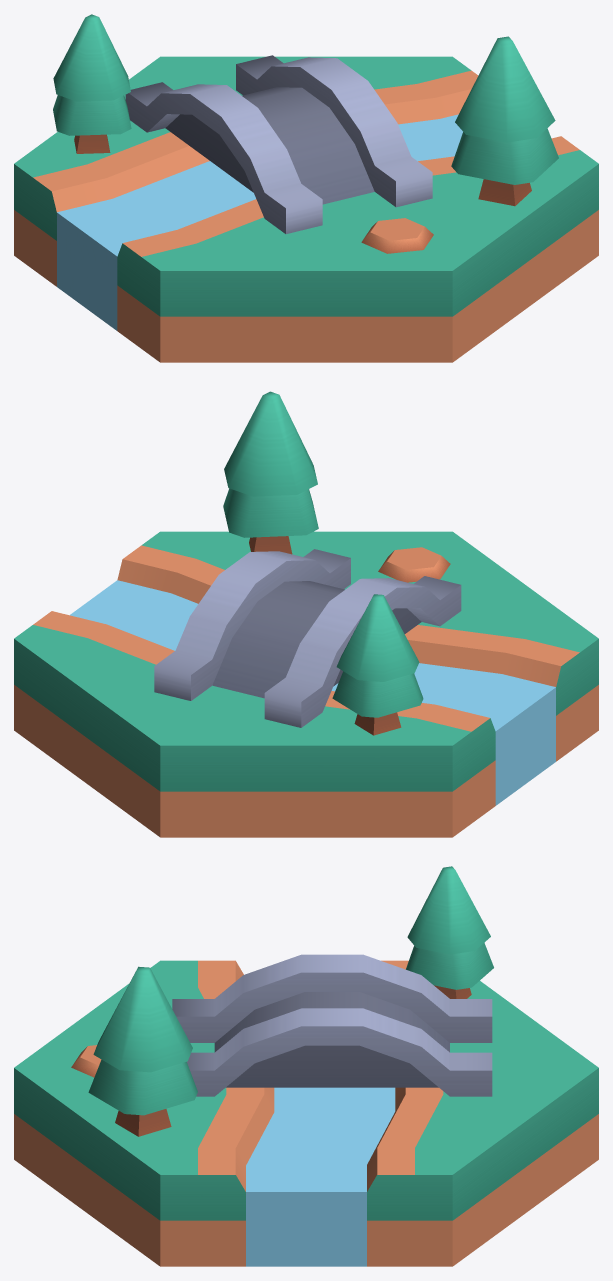
Rendered from bridge.fbx.
3 renders of one model, top to bottom at view 1: azimuth 30°, elevation 25°; view 2: azimuth 150°, elevation 25°; view 3: azimuth 270°, elevation 25°, orthographic.
Parts seen in each view (by area): view 1: bridge; view 2: bridge; view 3: bridge.
Part boxes in pixels (<box>): bridge: <box>14,14,598,362</box>; bridge: <box>14,391,598,837</box>; bridge: <box>14,866,598,1266</box>.
Bounding box in the file's own units: 100 × 53.82 × 115.
1 material, 1 textured.
